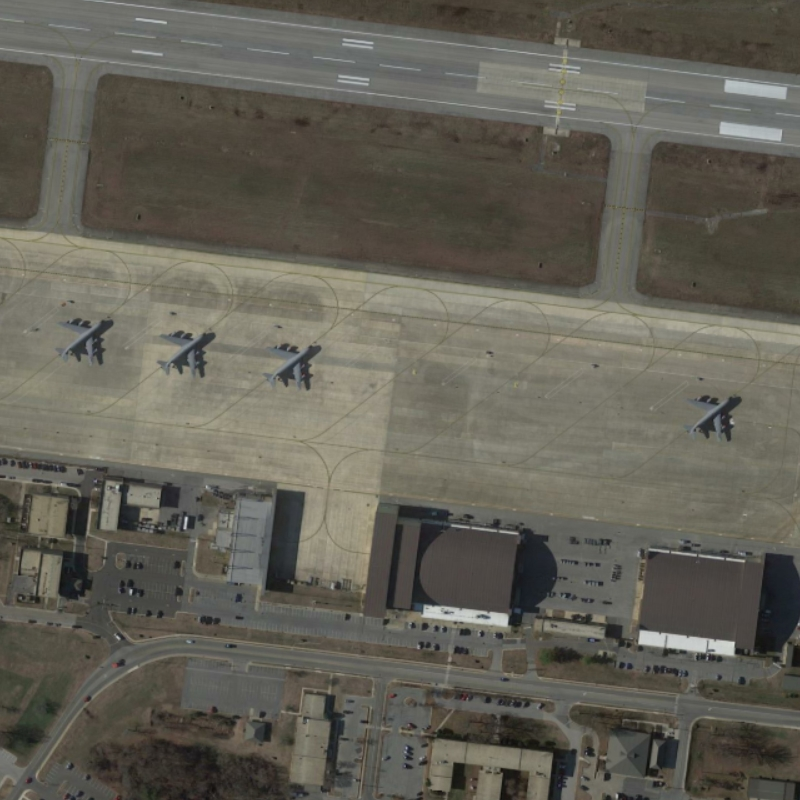A14: (53, 311, 111, 370), (153, 326, 211, 384), (260, 339, 318, 395), (683, 391, 739, 445)
